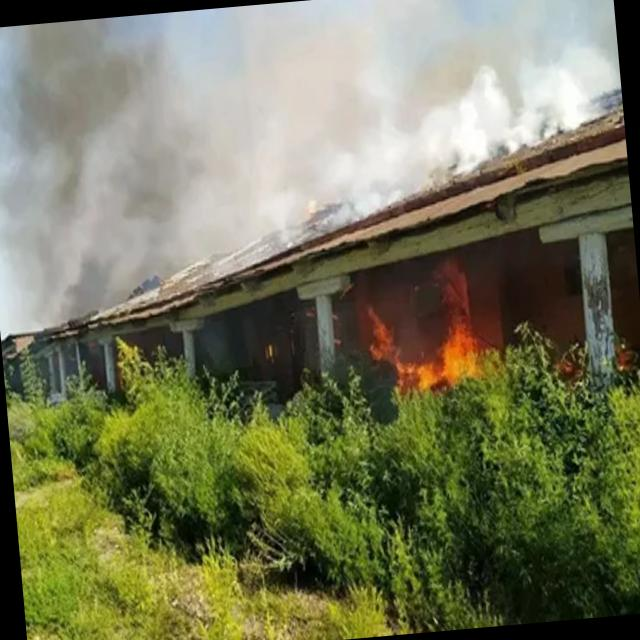Fire: (355, 264, 504, 402)
Smoke: (17, 0, 627, 214)
